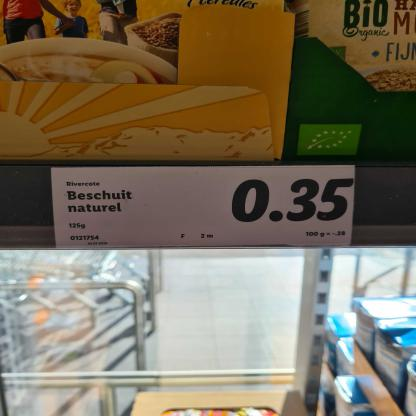prtg: (52, 166, 357, 250)
